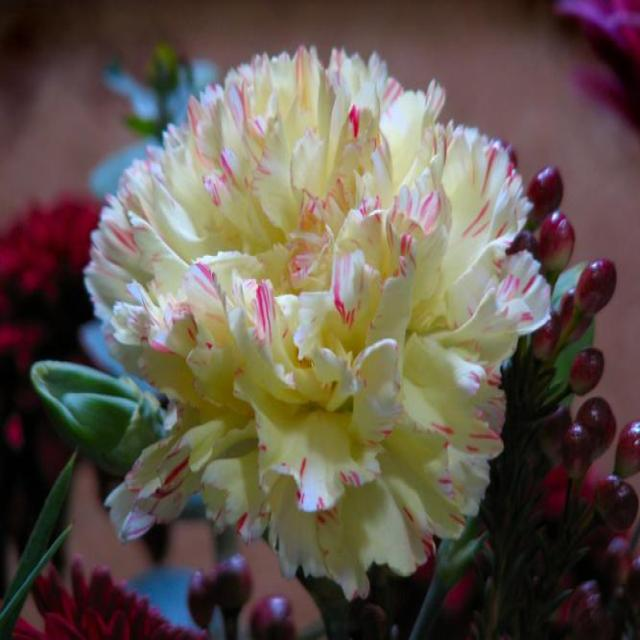carnation: (87, 48, 550, 602)
